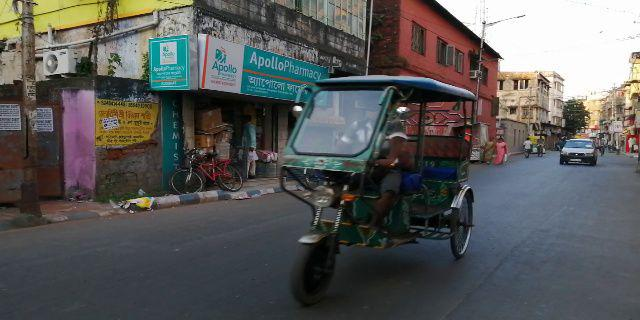Car: (557, 135, 599, 171)
Cycle: (169, 140, 242, 195)
Rickshaw: (270, 71, 480, 301)
